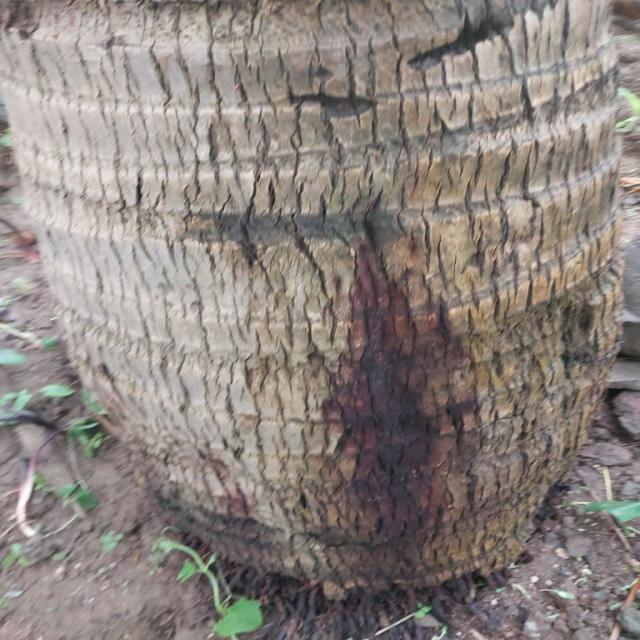stembleeding: (232, 195, 489, 561)
